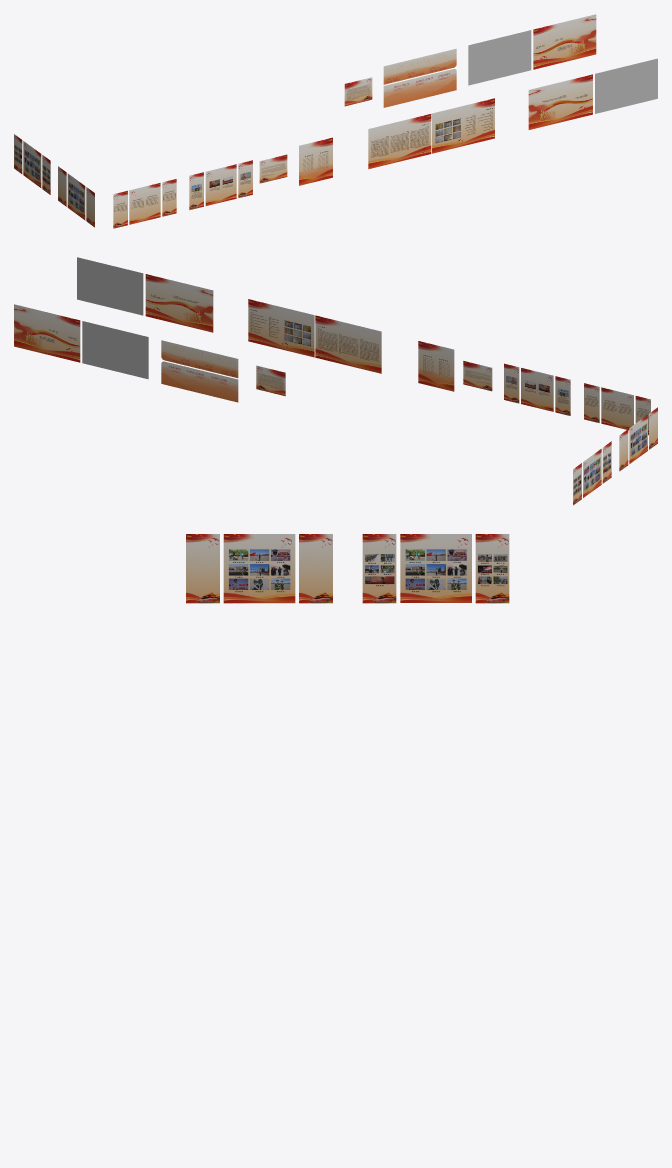
The picture shows the model from 3 angles, top to bottom: view 1: azimuth 30°, elevation 25°; view 2: azimuth 150°, elevation 25°; view 3: azimuth 270°, elevation 25°; orthographic projection. The views are drawn at different scales.
Visible parts, largest first — view 1: 3中队_发展历程04, 3中队_发展历程01, 3中队_发展历程02, 3中队_历史荣誉02, 3中队_历史荣誉01, 3中队_发展历程03, 3中队_历史沿革下, 3中队_历史沿革上, 3中队_历任主官, 3中队_建设成就中, 3中队_重大任务中, 3中队_军营文化中 (+7 smaller); view 2: 3中队_发展历程04, 3中队_发展历程01, 3中队_发展历程02, 3中队_历史荣誉01, 3中队_历史荣誉02, 3中队_发展历程03, 3中队_历史沿革下, 3中队_历任主官, 3中队_历史沿革上, 3中队_重大任务中, 3中队_建设成就中, 3中队_前沿 (+6 smaller); view 3: 3中队_军营文化中, 3中队_官兵风采中, 3中队_官兵风采右, 3中队_官兵风采左, 3中队_军营文化右, 3中队_军营文化左.
Boxes of the visible parts, x1=… form: 3中队_发展历程04: x1=528, y1=74, x2=592, y2=129; 3中队_发展历程01: x1=468, y1=30, x2=531, y2=85; 3中队_发展历程02: x1=533, y1=14, x2=596, y2=69; 3中队_历史荣誉02: x1=368, y1=114, x2=431, y2=169; 3中队_历史荣誉01: x1=432, y1=98, x2=494, y2=153; 3中队_发展历程03: x1=595, y1=58, x2=657, y2=113; 3中队_历史沿革下: x1=383, y1=69, x2=456, y2=107; 3中队_历史沿革上: x1=383, y1=48, x2=456, y2=84; 3中队_历任主官: x1=299, y1=137, x2=332, y2=185; 3中队_建设成就中: x1=129, y1=183, x2=160, y2=224; 3中队_重大任务中: x1=205, y1=164, x2=236, y2=205; 3中队_军营文化中: x1=67, y1=173, x2=85, y2=220; 3中队_发展历程04: x1=145, y1=274, x2=213, y2=332; 3中队_发展历程01: x1=82, y1=321, x2=148, y2=379; 3中队_发展历程02: x1=14, y1=304, x2=80, y2=362; 3中队_历史荣誉01: x1=248, y1=299, x2=314, y2=357; 3中队_历史荣誉02: x1=315, y1=315, x2=381, y2=373; 3中队_发展历程03: x1=77, y1=257, x2=143, y2=315; 3中队_历史沿革下: x1=161, y1=361, x2=238, y2=402; 3中队_历任主官: x1=418, y1=341, x2=454, y2=391; 3中队_历史沿革上: x1=161, y1=340, x2=238, y2=378; 3中队_重大任务中: x1=521, y1=368, x2=553, y2=411; 3中队_建设成就中: x1=601, y1=387, x2=633, y2=430; 3中队_前沿: x1=256, y1=365, x2=285, y2=396; 3中队_军营文化中: x1=223, y1=534, x2=295, y2=603; 3中队_官兵风采中: x1=400, y1=534, x2=471, y2=602; 3中队_官兵风采右: x1=475, y1=534, x2=509, y2=603; 3中队_官兵风采左: x1=362, y1=534, x2=396, y2=603; 3中队_军营文化右: x1=299, y1=534, x2=332, y2=603; 3中队_军营文化左: x1=186, y1=534, x2=219, y2=603.
Bounding box in the file's own units: 2790 × 200 × 751.
